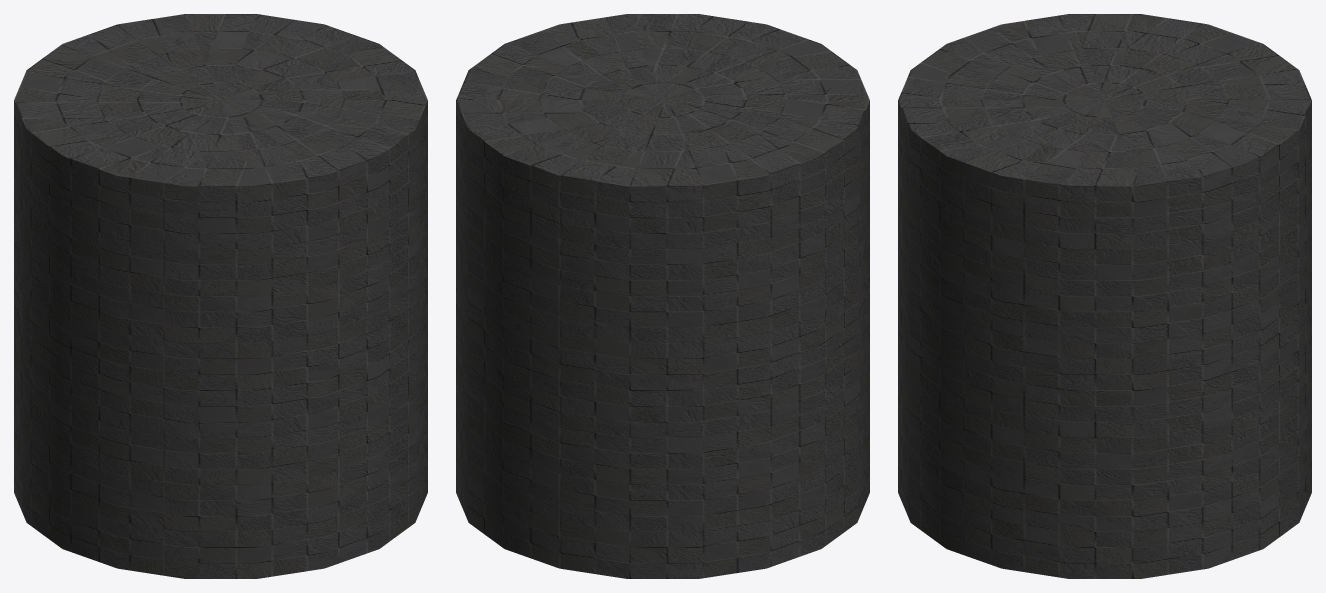
The model's file is Field.FBX.
3 views of the same model, side by side, from view 1: azimuth 30°, elevation 25°; view 2: azimuth 150°, elevation 25°; view 3: azimuth 270°, elevation 25° (orthographic).
Parts seen in each view (by area): view 1: Tube001; view 2: Tube001; view 3: Tube001.
Boxes of the visible parts, x1,y1,x2,y2 form: Tube001: (14,14,427,578); Tube001: (456,14,869,578); Tube001: (898,14,1311,578).
Size of the model in its own units: 290 by 309 by 295.
Materials: 1 (1 with a texture image).
